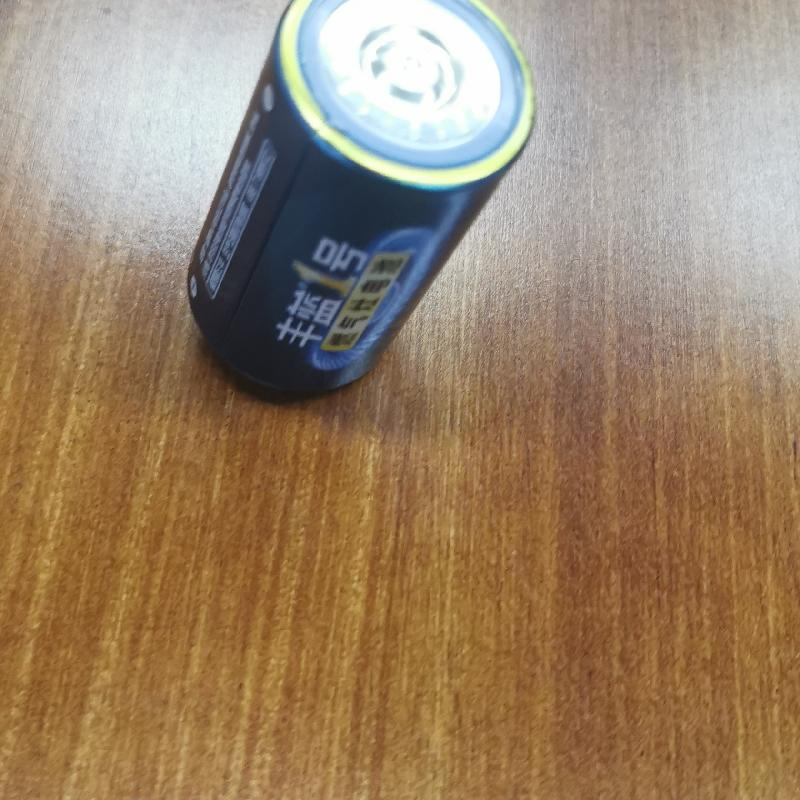battery: (183, 1, 540, 399)
